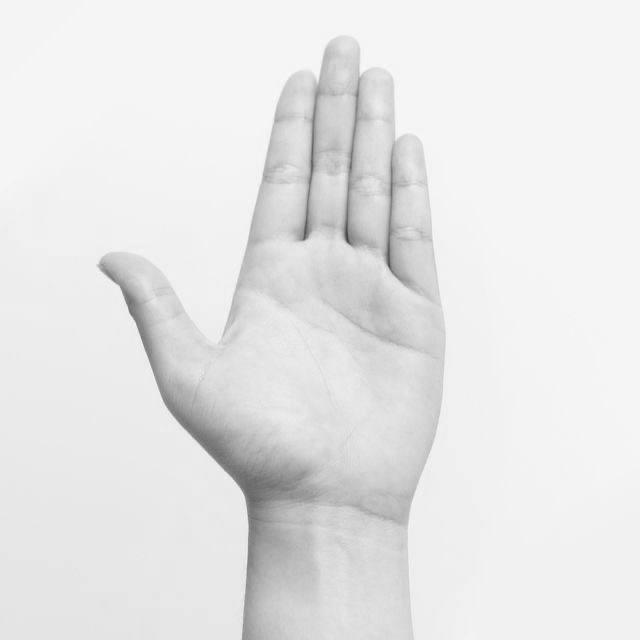stop: (90, 28, 453, 537)
